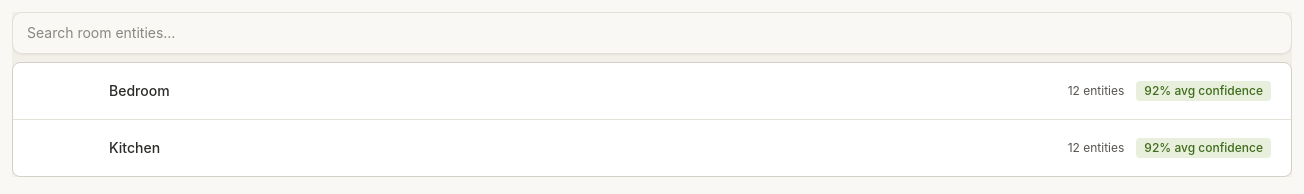
Test: RoomList › filters rooms by matching entity id
Type "bedroom_temp" into the search field with test id "section-search".
click(652, 33); type("bedroom_temp")  # box [12,12,1292,54]
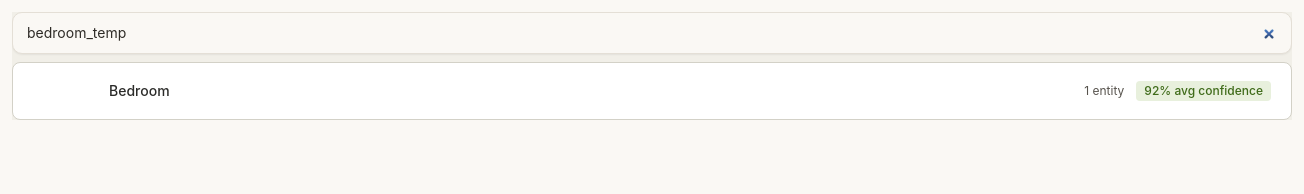
Expected: the list item with test id "room-row" shows "Bedroom", [109,82,170,99]
Now the number of list items with test id "room-row" is 1, box [33,75,1271,107]
